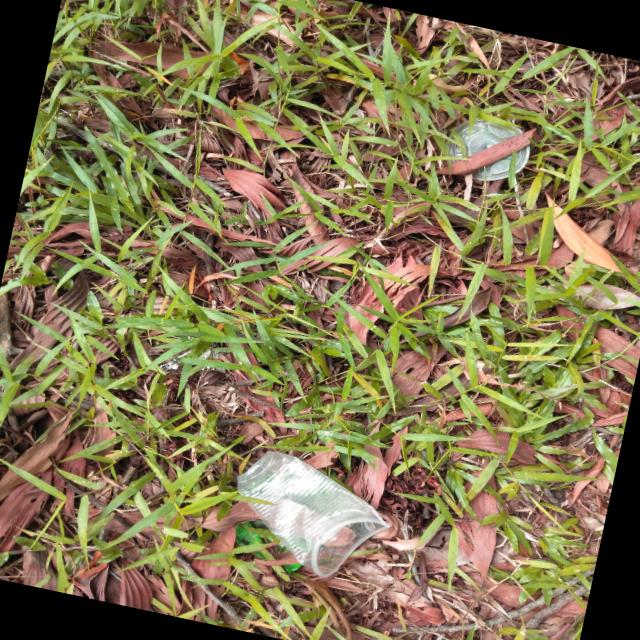less trash: (237, 451, 387, 577)
